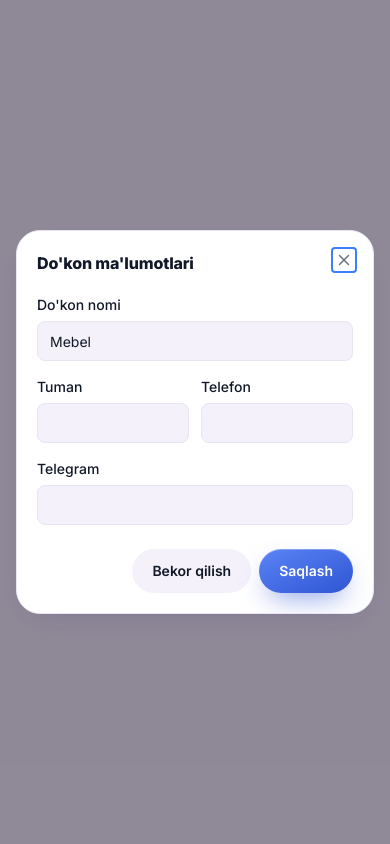
Test: forms refuse a phone that is not an Uzbek number › store edit
In the field labelled "Telefon": (277, 423) [201,403,353,443], type "12"
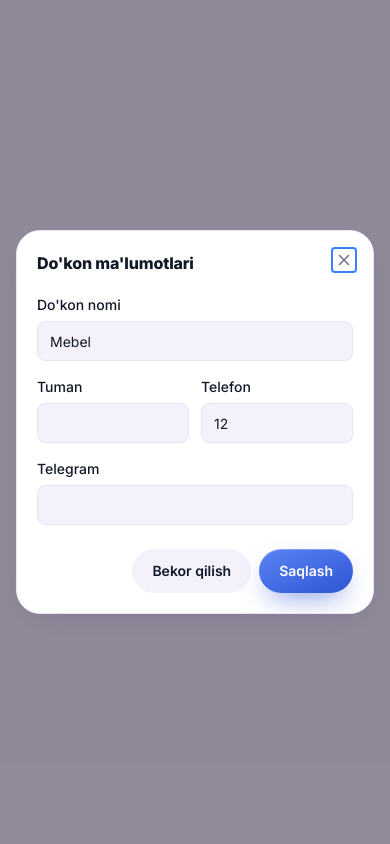
Click the button "Saqlash": (306, 571) [259,549,353,593]
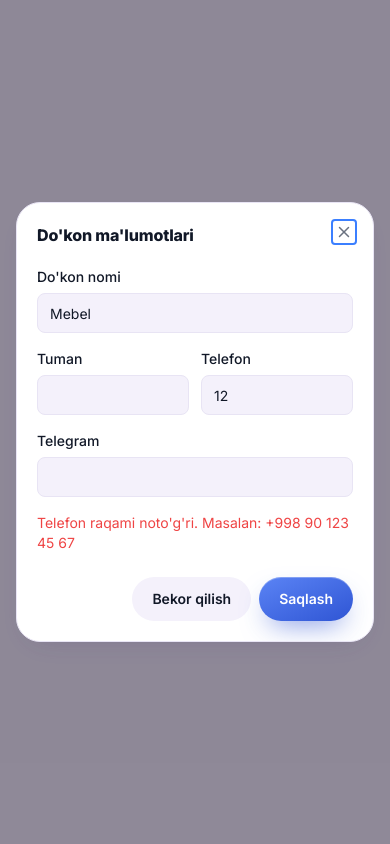
Expected: the message reads "Telefon raqami noto'g'ri. Masalan: +998 90 123 45 67", [37,514,349,551]
